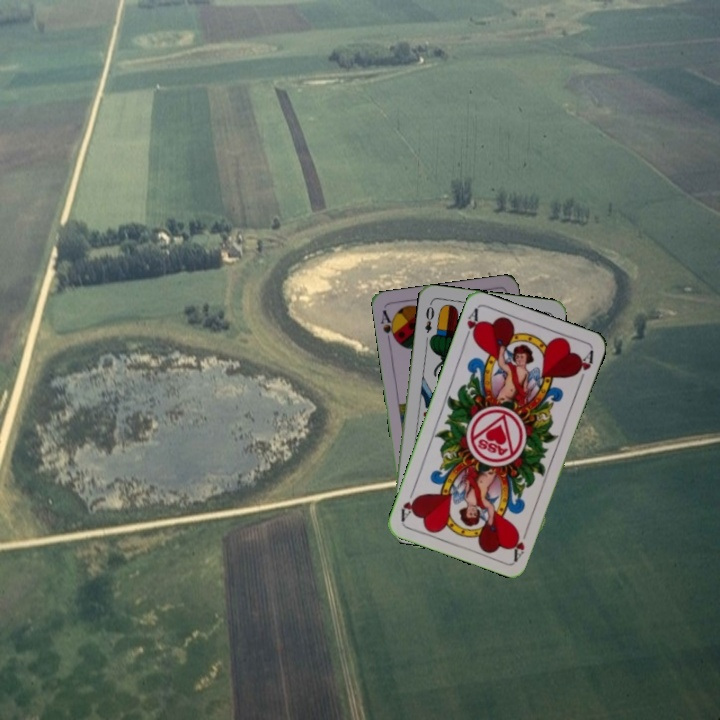EO: (421, 299, 437, 335)
HA: (460, 305, 483, 344), (510, 523, 531, 563)
SA: (377, 306, 400, 346)
